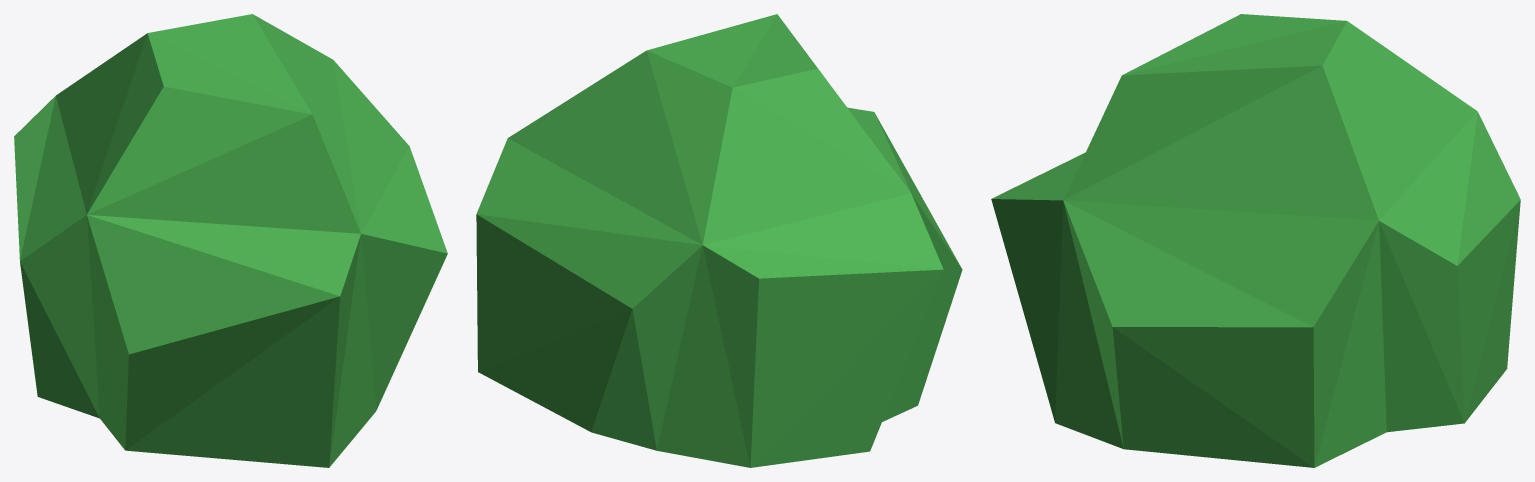
The model's file is Woods Bush.glb.
3 views of the same model, side by side, from view 1: azimuth 30°, elevation 25°; view 2: azimuth 150°, elevation 25°; view 3: azimuth 270°, elevation 25° (orthographic). The views are drawn at different scales.
Visible parts, largest first — view 1: group438538056; view 2: group438538056; view 3: group438538056.
Boxes of the visible parts, <box> form: group438538056: <box>14,14,447,467</box>; group438538056: <box>476,14,962,467</box>; group438538056: <box>991,14,1520,467</box>.
Size of the model in its own units: 1.53 by 1.25 by 1.57.
